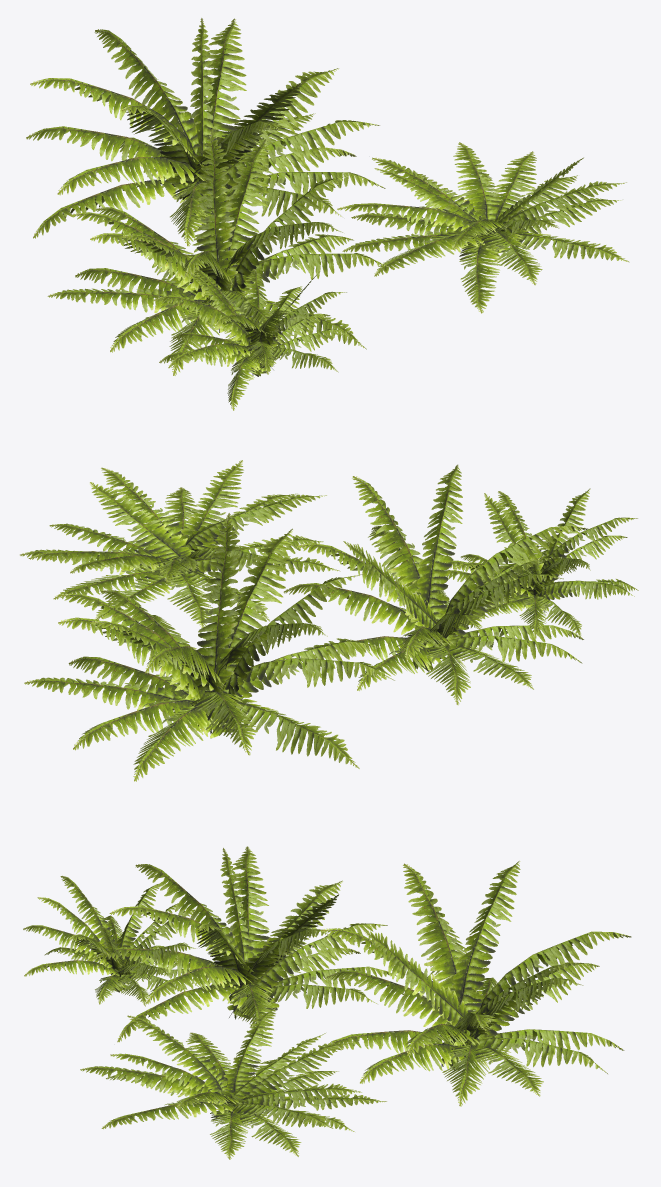
The model's file is fern.glb.
3 renders of one model, top to bottom at view 1: azimuth 30°, elevation 25°; view 2: azimuth 150°, elevation 25°; view 3: azimuth 270°, elevation 25°, orthographic. The views are drawn at different scales.
Visible parts, largest first — view 1: Object_2; view 2: Object_2; view 3: Object_2.
Part boxes in pixels (<box>): Object_2: <box>26,18,629,410</box>; Object_2: <box>20,460,638,781</box>; Object_2: <box>23,846,631,1159</box>.
Size of the model in its own units: 1.57 by 0.55 by 1.69.
1 material, 1 textured.
